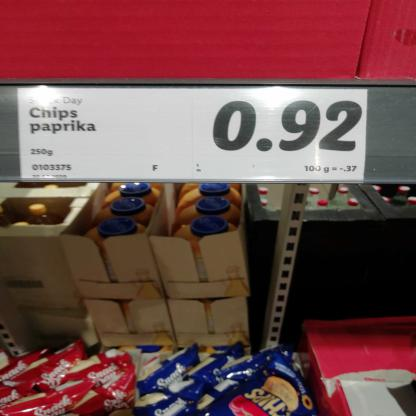prtg: (18, 90, 368, 184)
